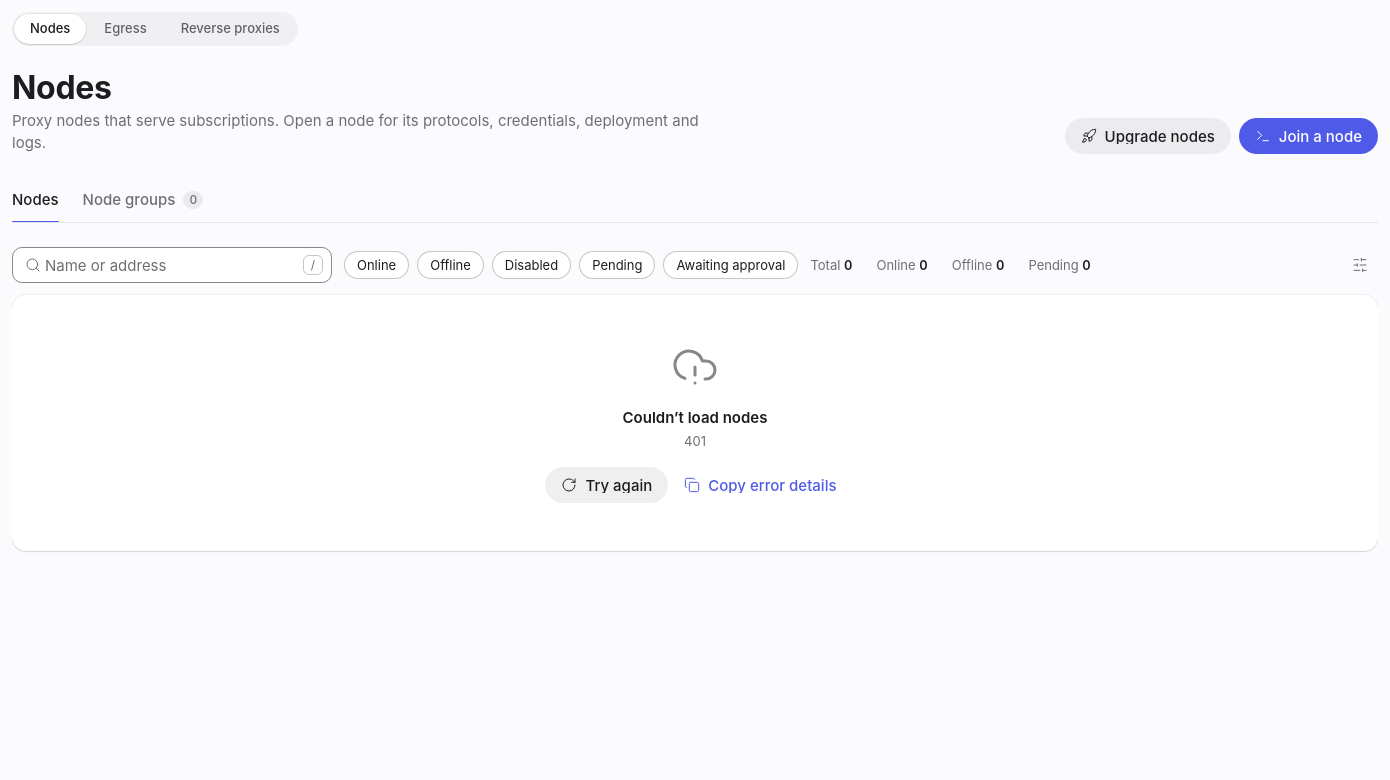
Test: Nodes.vue › stops follow-up requests and shows the error state when the nodes do not load
Click the button "Try again" at (607, 485), box x1=546 y1=467 x2=668 y2=503
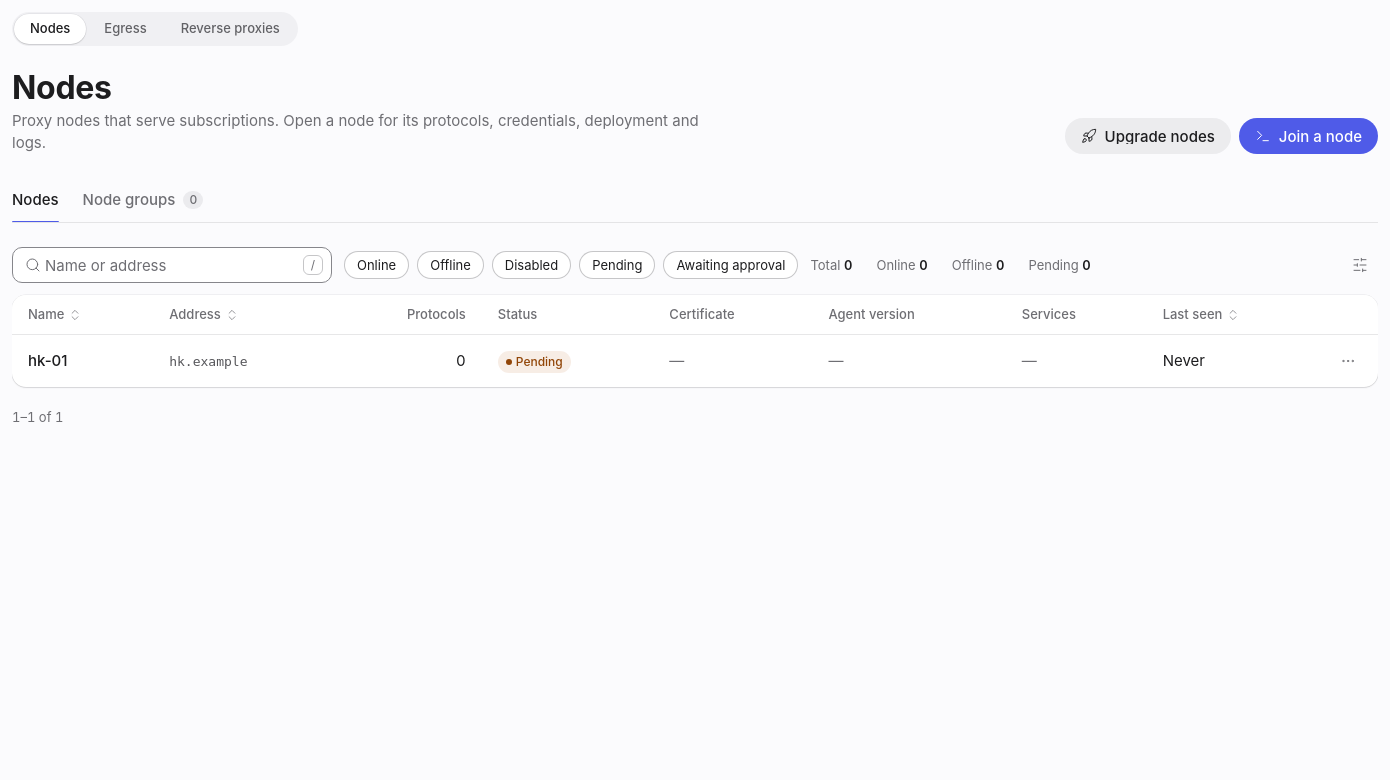
Check: the text "hk-01" is shown, box x1=28 y1=350 x2=68 y2=372
